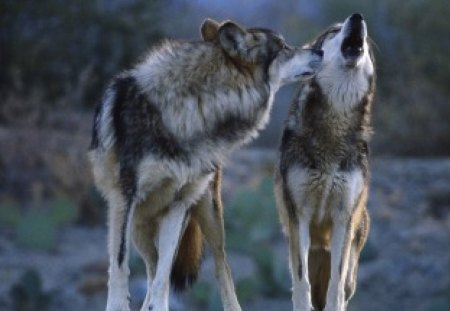Lobo: (81, 15, 323, 275), (294, 15, 390, 298)
